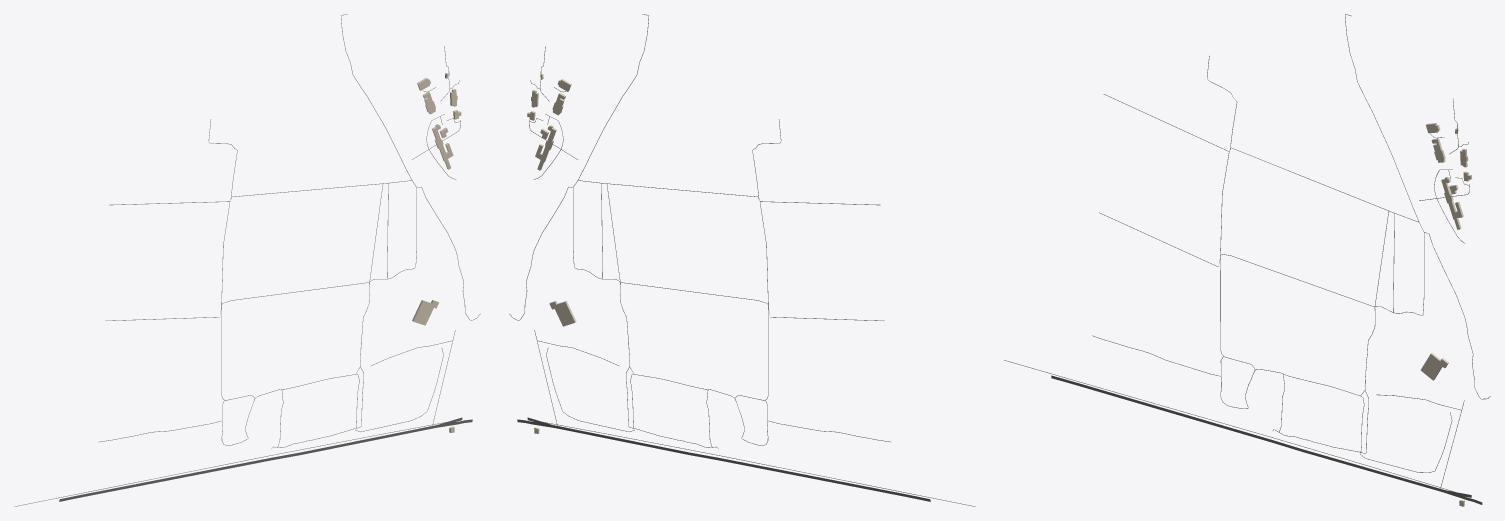
The model's file is historic-palestine-08_33_3496_3271.glb.
3 renders of one model, left to right at view 1: azimuth 30°, elevation 25°; view 2: azimuth 150°, elevation 25°; view 3: azimuth 330°, elevation 25°, orthographic. The views are drawn at different scales.
Visible parts, largest first — view 1: Road 721.002, Road .002; view 2: Road 721.002, Road .002; view 3: Road 721.002, Road .002.
Part boxes in pixels (x1,y1,x2,y2): Road 721.002: (59,425,436,501); Road .002: (271,14,416,448); Road 721.002: (553,425,930,501); Road .002: (573,14,718,448); Road 721.002: (1051,375,1444,492); Road .002: (1273,14,1424,453).
Bounding box in the file's own units: 1476 × 1345 × 8.7.
